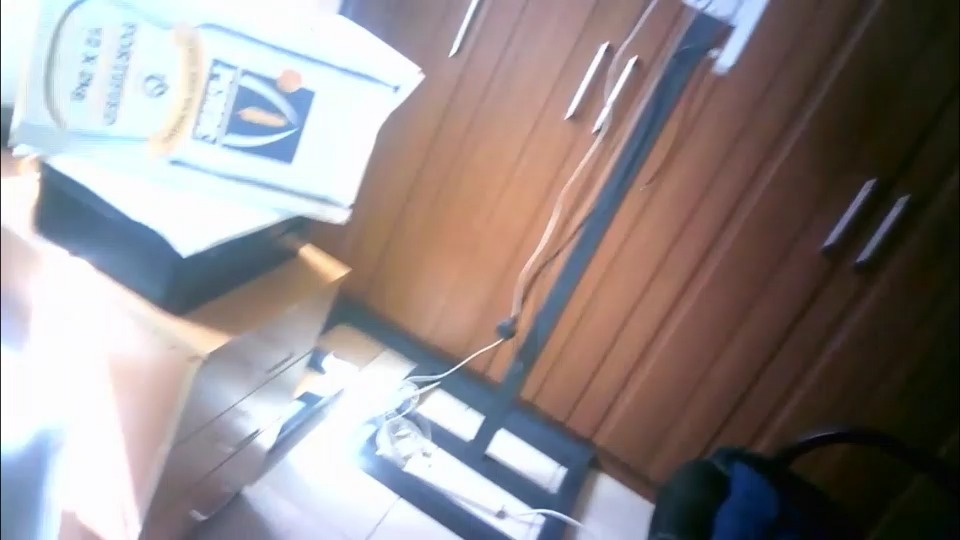wheat_flour_blue_label: (7, 6, 425, 227)
